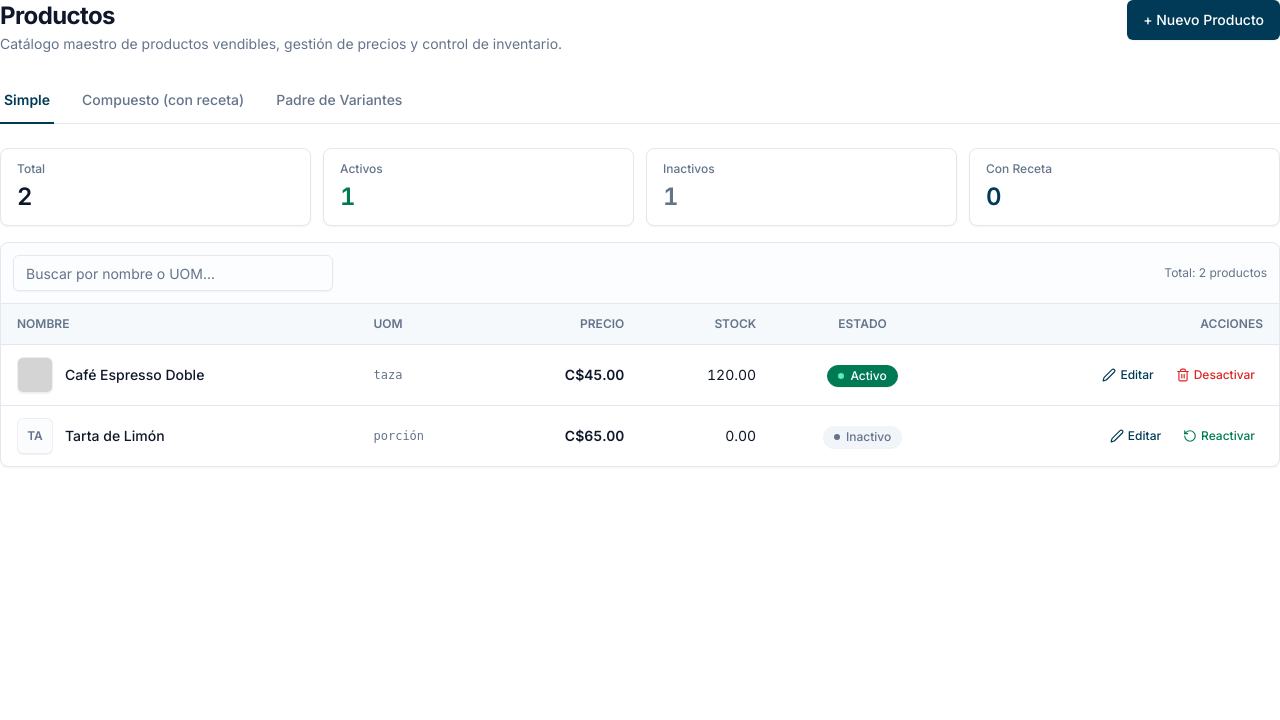
Test: S1 — Edit dialog prefill (honest display, async catalog options) › shows the saved UOM selected even when the catalog does not list it (synthetic current option)
This screenshot has width=1280, height=720.
Step 1. Click the button "Editar" in the row of "Tarta de Limón" → {"x": 1135, "y": 436}, box 1102,420 -> 1169,452
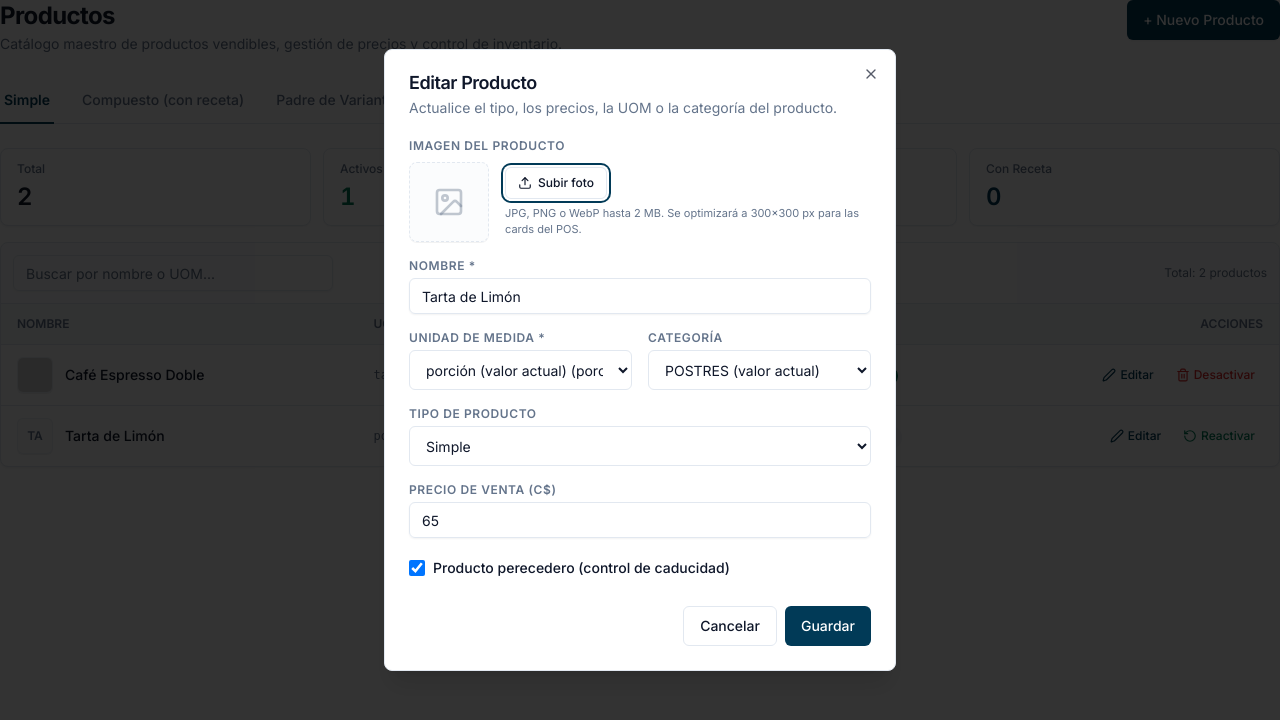
Result: the heading "Editar Producto" is shown at 409,72 -> 537,93
Result: the dropdown labelled "Unidad de Medida *" shows "porción (valor actual) (porción)" at 409,350 -> 632,390
